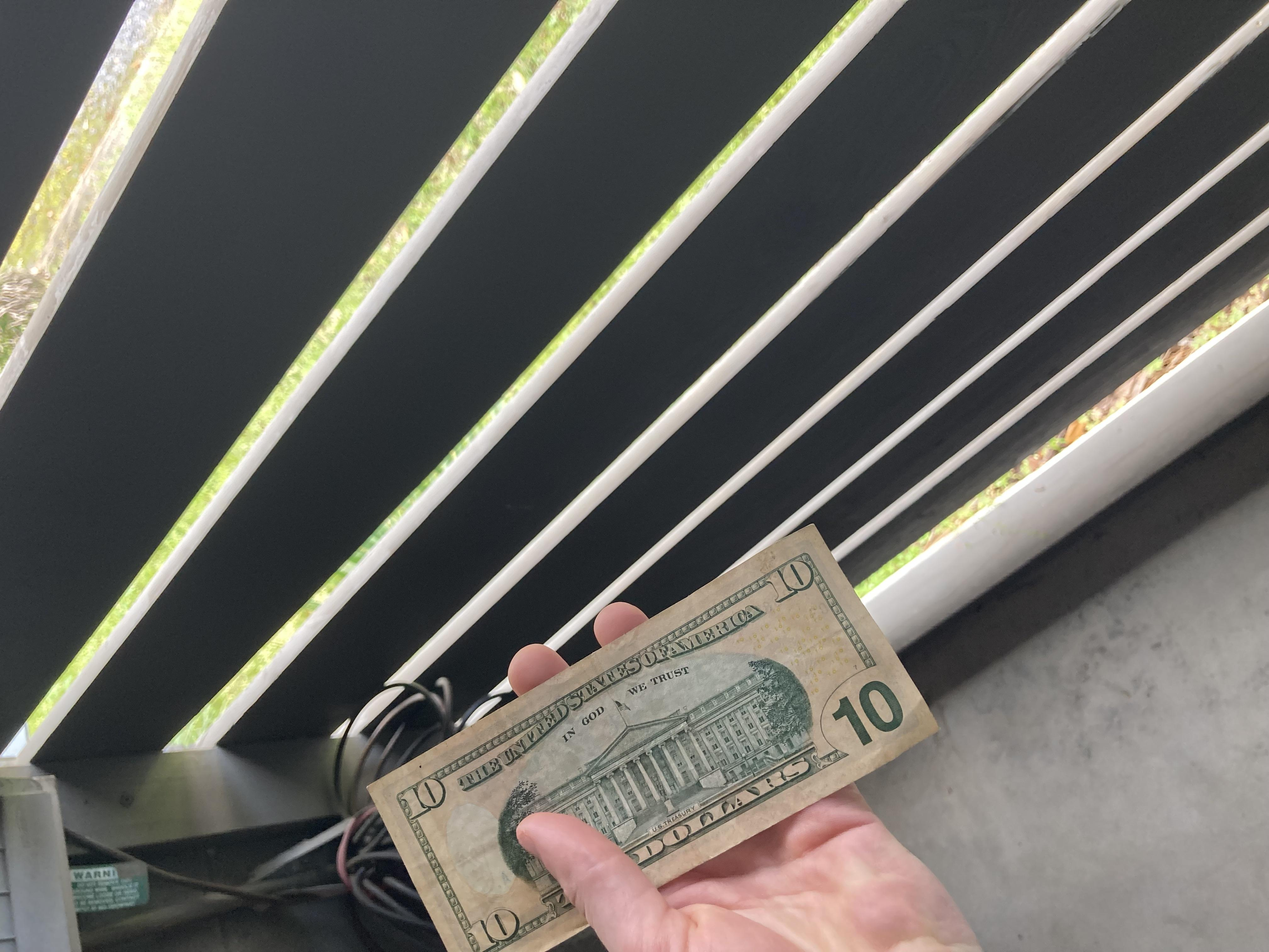ten-back: (0, 273, 576, 710)
